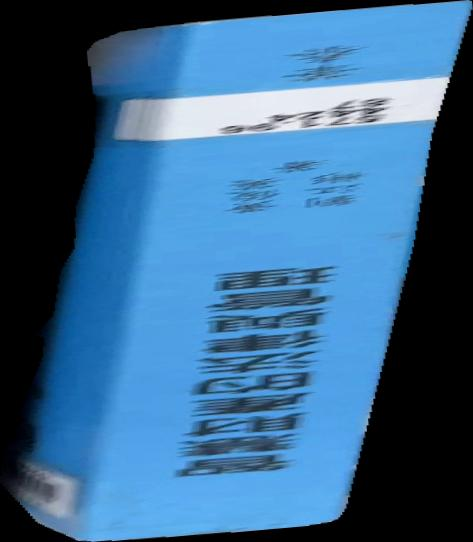reverse: (1, 1, 473, 542)
